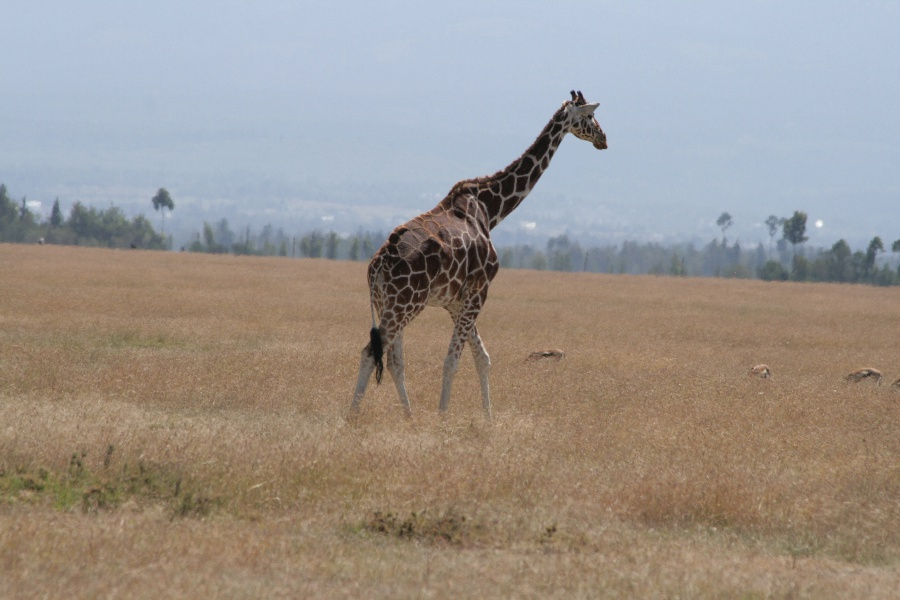giraffe: (337, 82, 612, 428)
